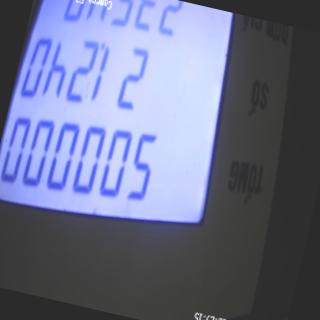screen: (0, 0, 259, 269)
